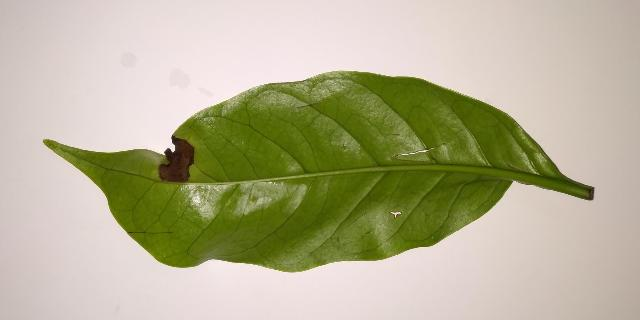rust: (158, 135, 194, 182)
